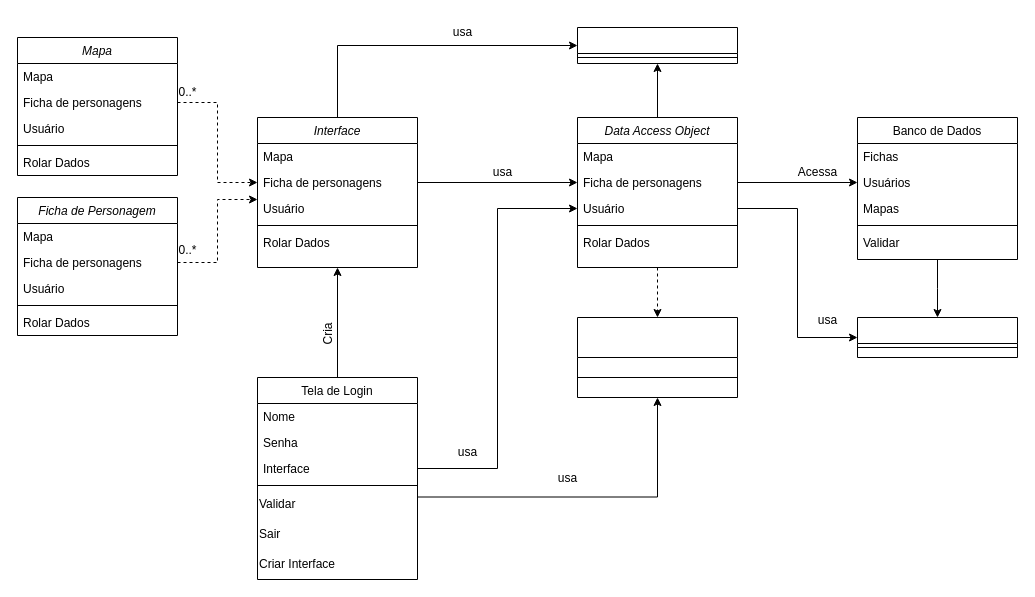
This 1035x597 diagram has some shape labels left out. Here are the shapes that lost their labels. From the top down, the centre of each, then its label:
At pixel 657 45: "Ficha Transfer Object".
At pixel 657 357: "Chave de Acesso Transfer Object".
At pixel 937 337: "Chave de Acesso".
